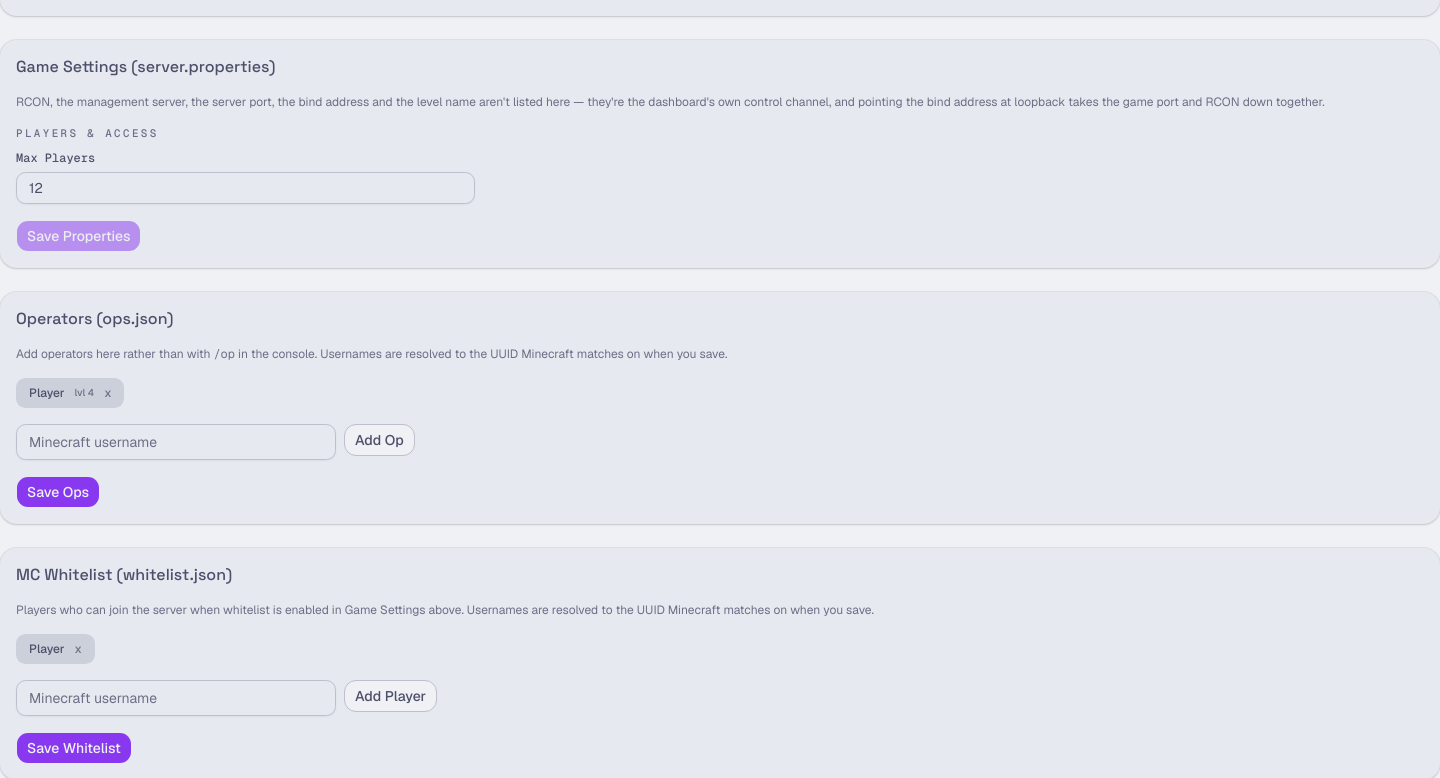
Test case: MC operators snapshots › includes its own read revision and recovers from stale refusal
The image size is (1440, 778).
(page scrolled)
Click the button "Save Ops". click: {"x": 58, "y": 492}
box: x1=16 y1=476 x2=100 y2=508
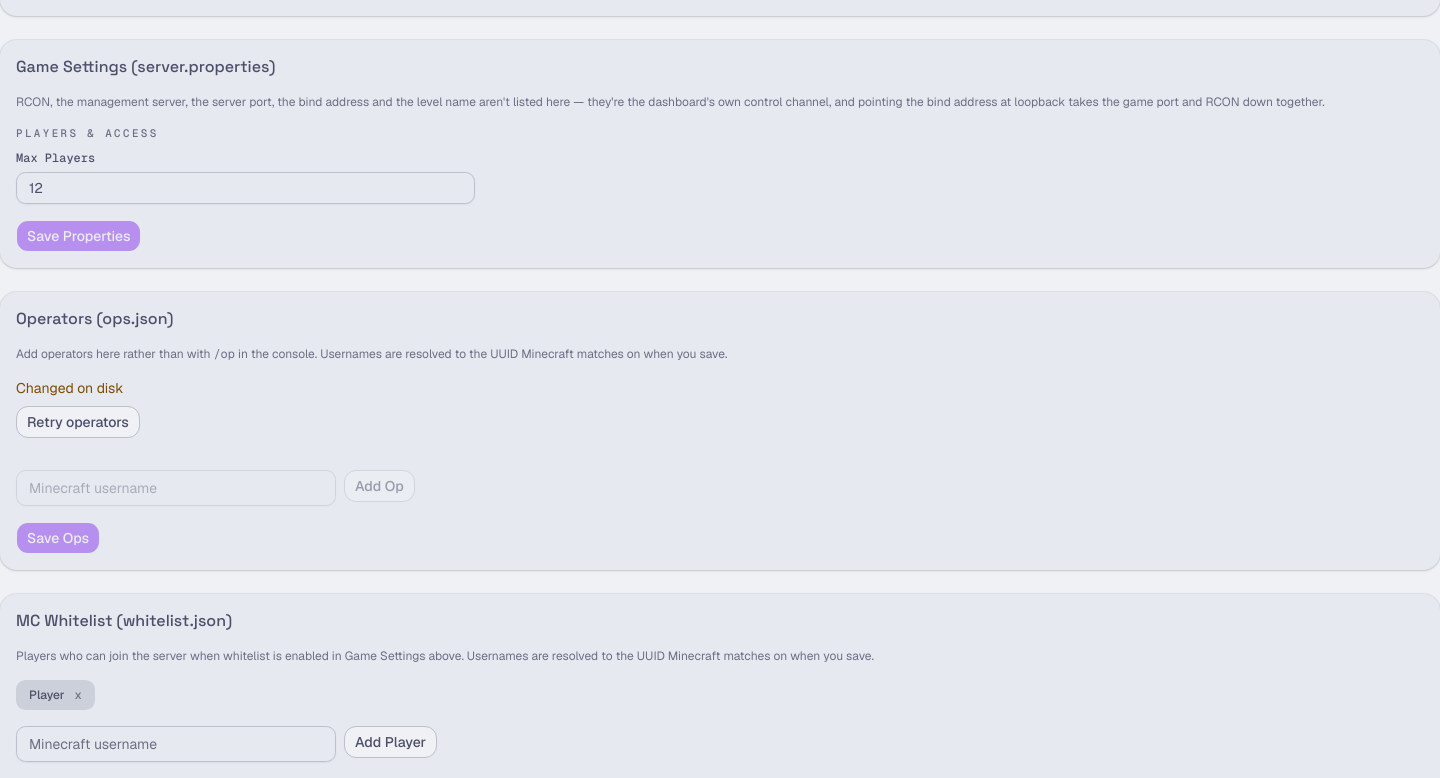
Now the button "Retry operators" is shown, box x1=16 y1=406 x2=140 y2=438
Now the button "Save Ops" is disabled, box x1=16 y1=522 x2=100 y2=554
